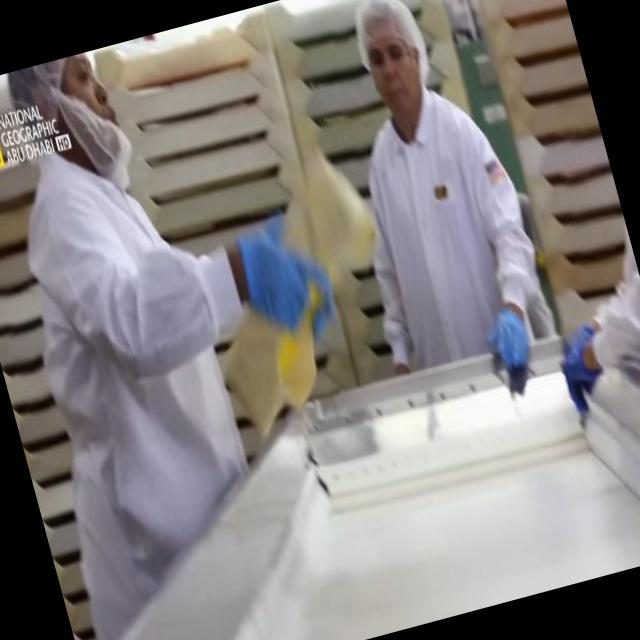hairnet: (5, 55, 90, 128), (343, 0, 422, 55)
